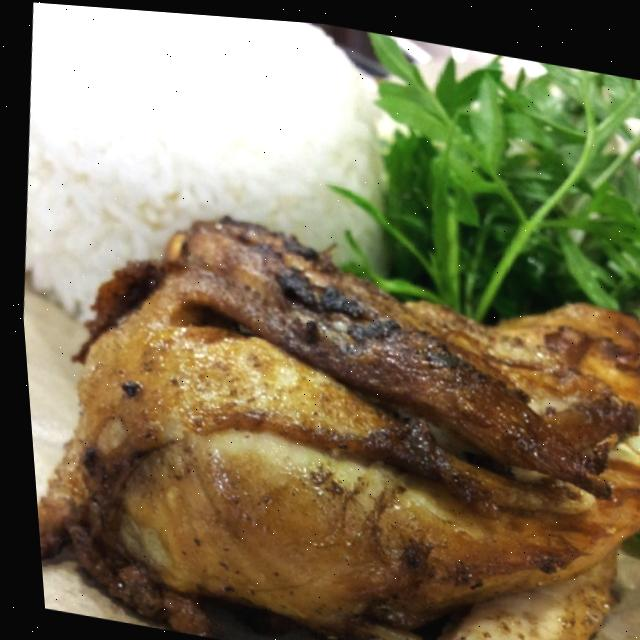鸡肉料理 含炸鸡: (2, 36, 640, 640)
